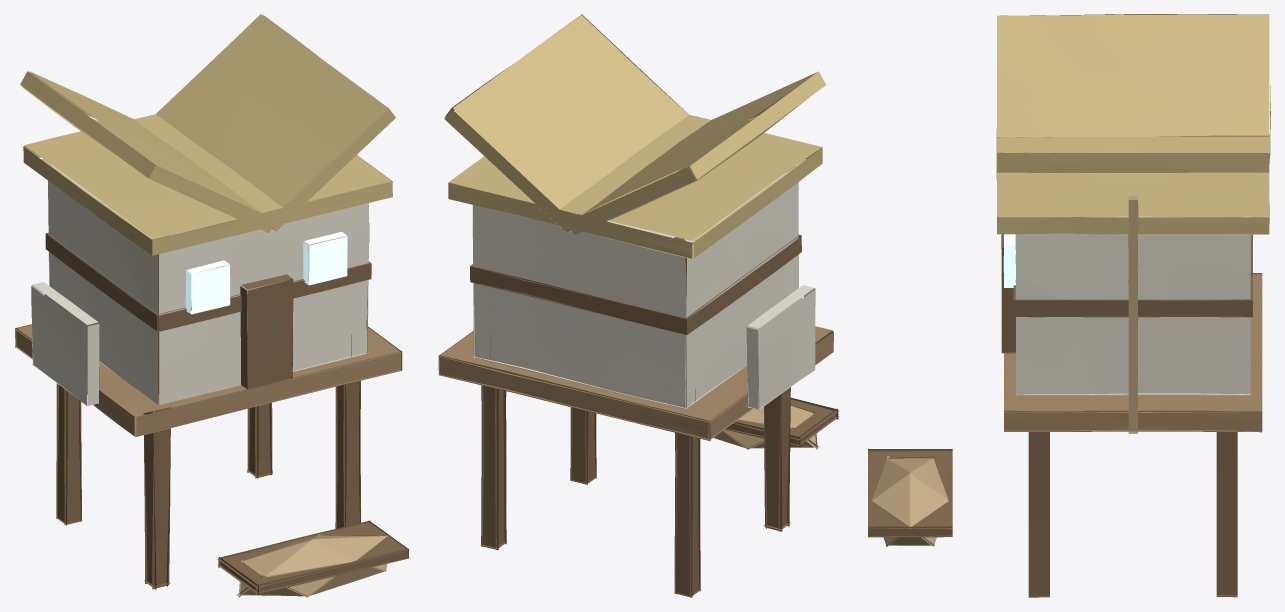
The model's file is fishery.glb.
3 views of the same model, side by side, from view 1: azimuth 30°, elevation 25°; view 2: azimuth 150°, elevation 25°; view 3: azimuth 270°, elevation 25° (orthographic). The views are drawn at different scales.
Parts seen in each view (by area): view 1: Pile-0.5-0.4; view 2: Pile-0.5-0.4; view 3: Pile-0.5-0.4.
Boxes of the visible parts, left/top/right/bottom form: Pile-0.5-0.4: left=14, top=14, right=408, bottom=597; Pile-0.5-0.4: left=438, top=14, right=839, bottom=597; Pile-0.5-0.4: left=868, top=14, right=1270, bottom=597.
Size of the model in its own units: 1.51 by 2.21 by 1.72.
